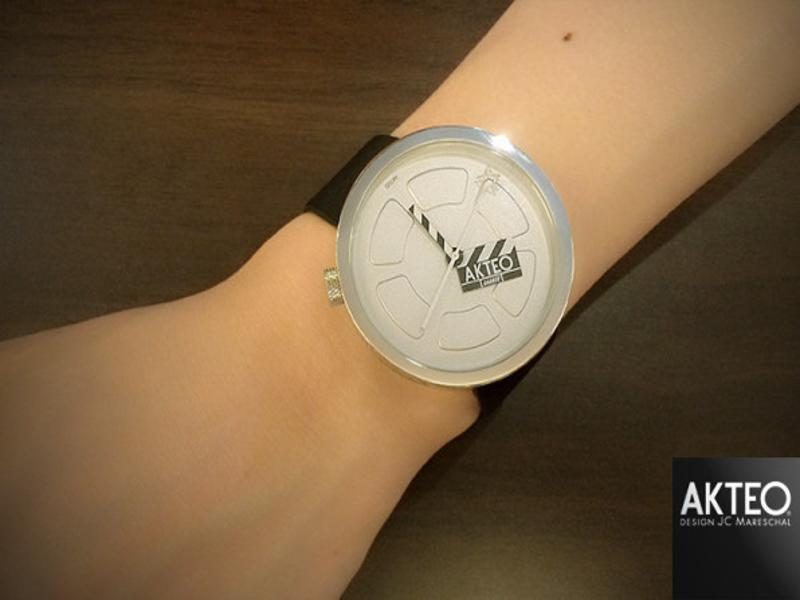watch: (303, 123, 577, 428)
